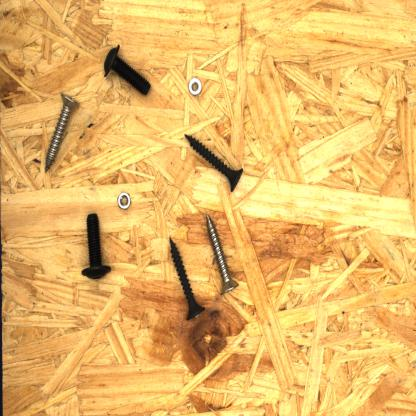screw: (180, 129, 246, 198), (165, 232, 209, 326), (42, 86, 83, 176), (205, 210, 243, 299), (100, 42, 156, 101), (79, 209, 115, 284)
